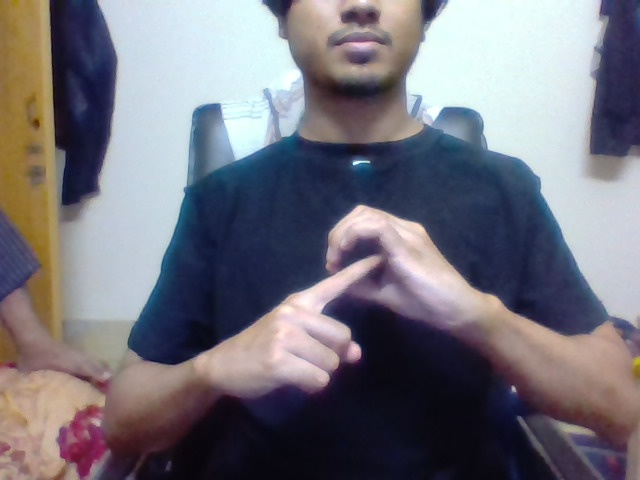Q: (336, 220, 410, 305)
